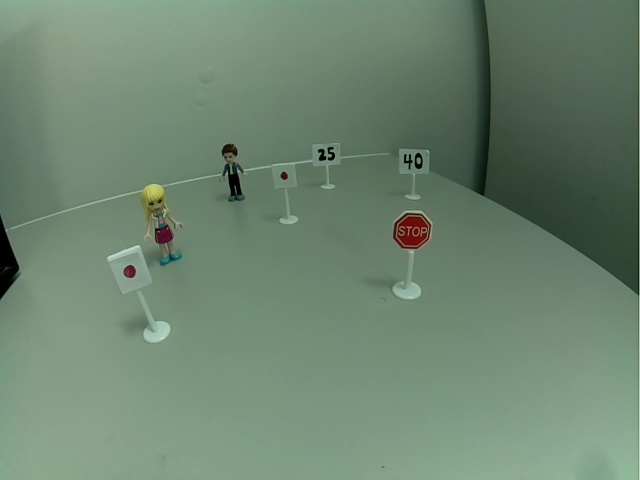people: (136, 182, 186, 267), (215, 143, 252, 206)
red light: (107, 246, 154, 295), (271, 163, 299, 192)
speed 25: (311, 142, 344, 167)
speed 40: (397, 145, 431, 177)
stop: (391, 208, 434, 253)
